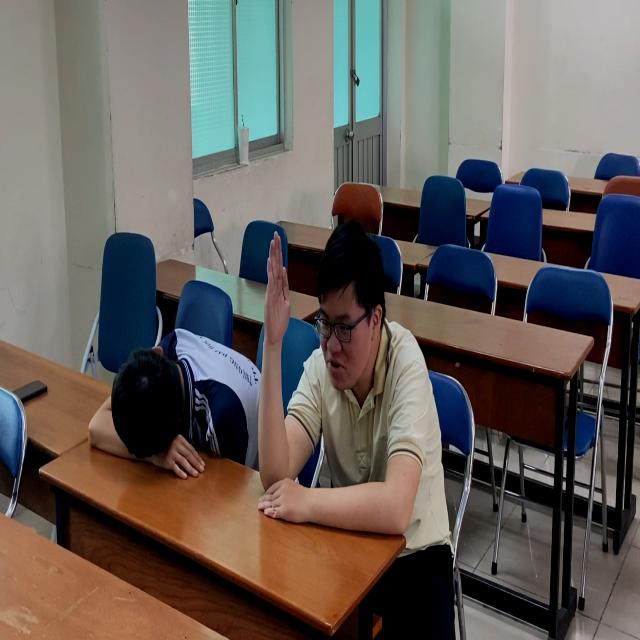raise_hand: (256, 208, 440, 566)
sleep: (82, 311, 257, 506)
